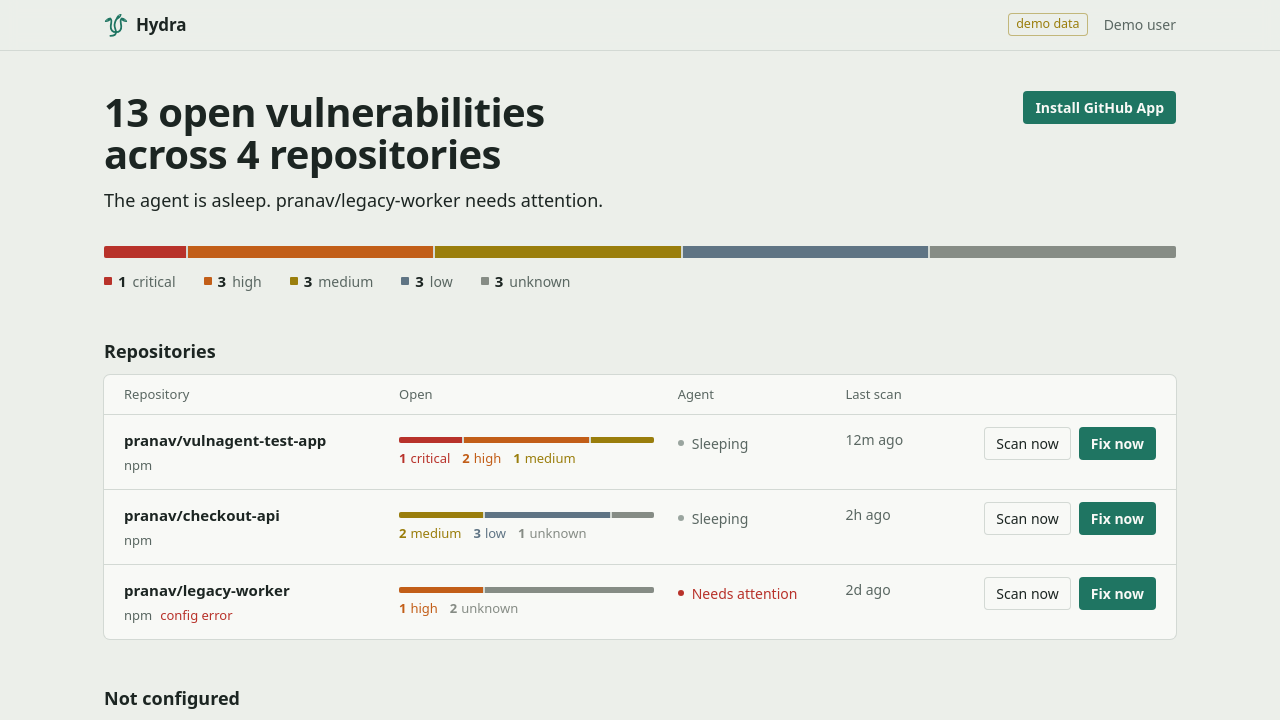
Test: a repository in detail › explains why a transitive package is installed
Click the link "pranav/vulnagent-test-app" at (225, 440), box [124,430,326,450]
(page scrolled)
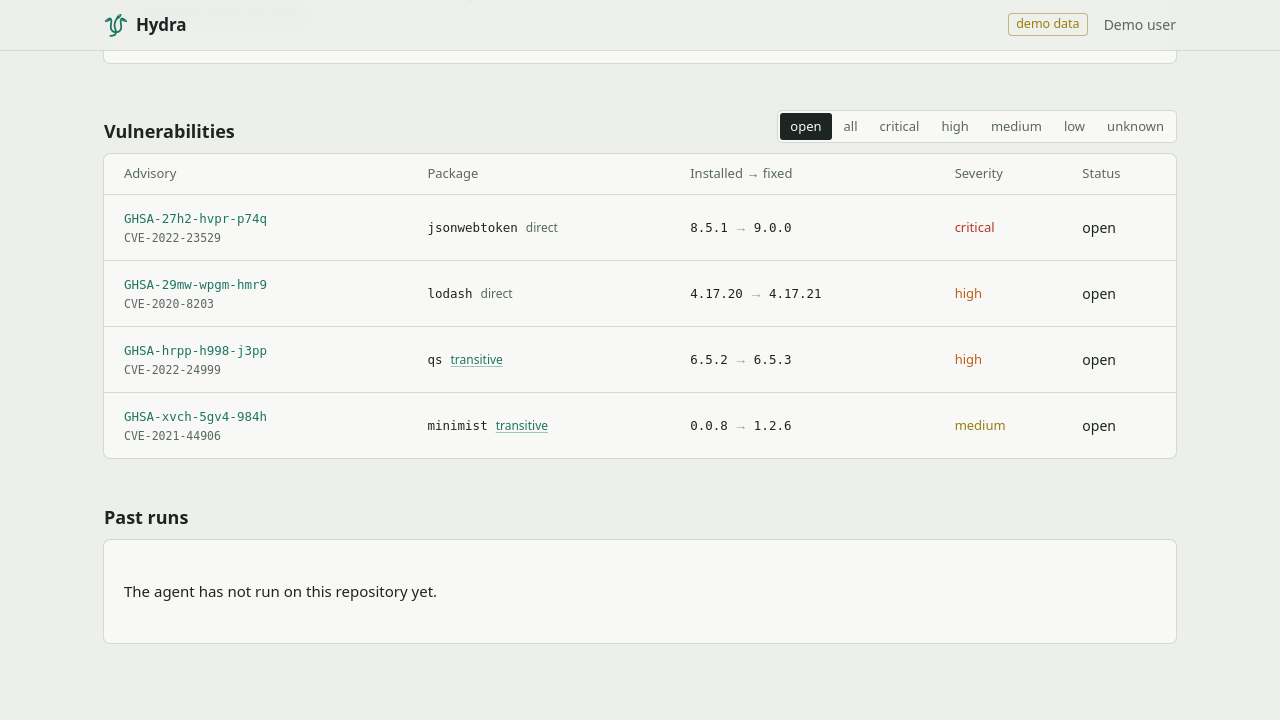
Click the button "transitive" next to "qs" at (477, 360), box [450,351,503,369]
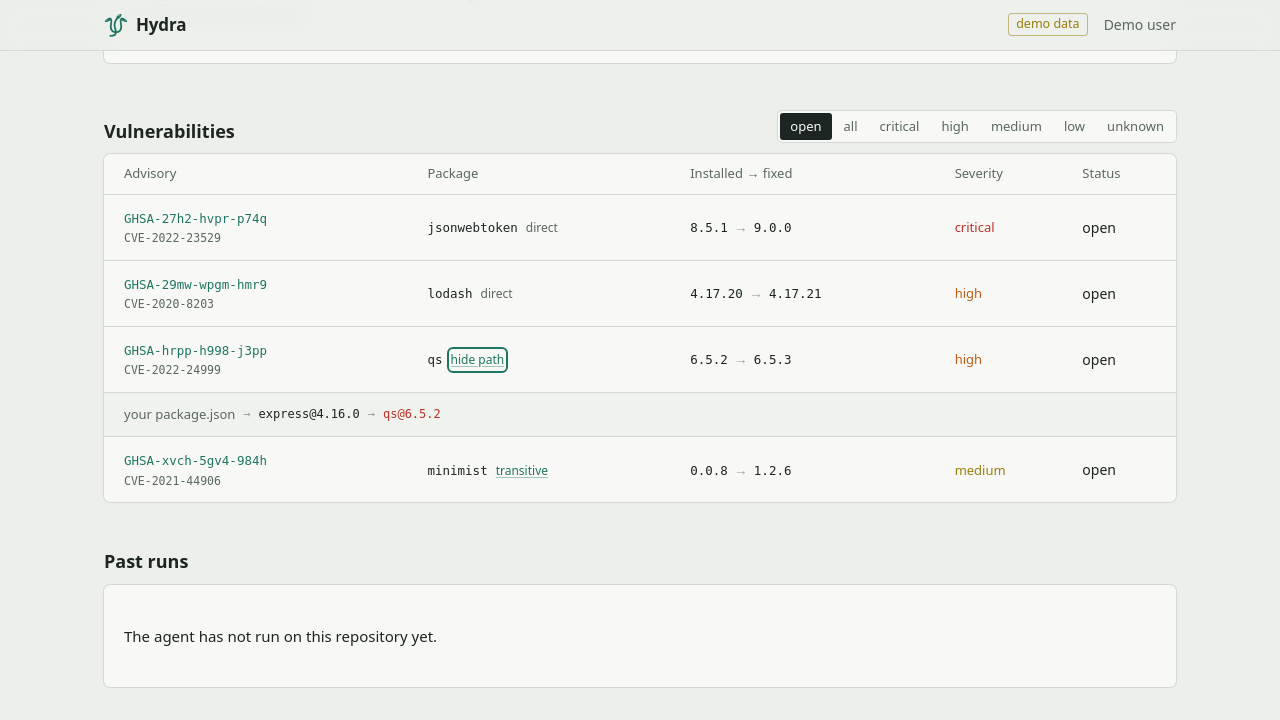
Expected: the text "your package.json" is shown, [124,404,235,424]
Expected: the text "express@4.16.0" is shown, [259,405,360,423]
